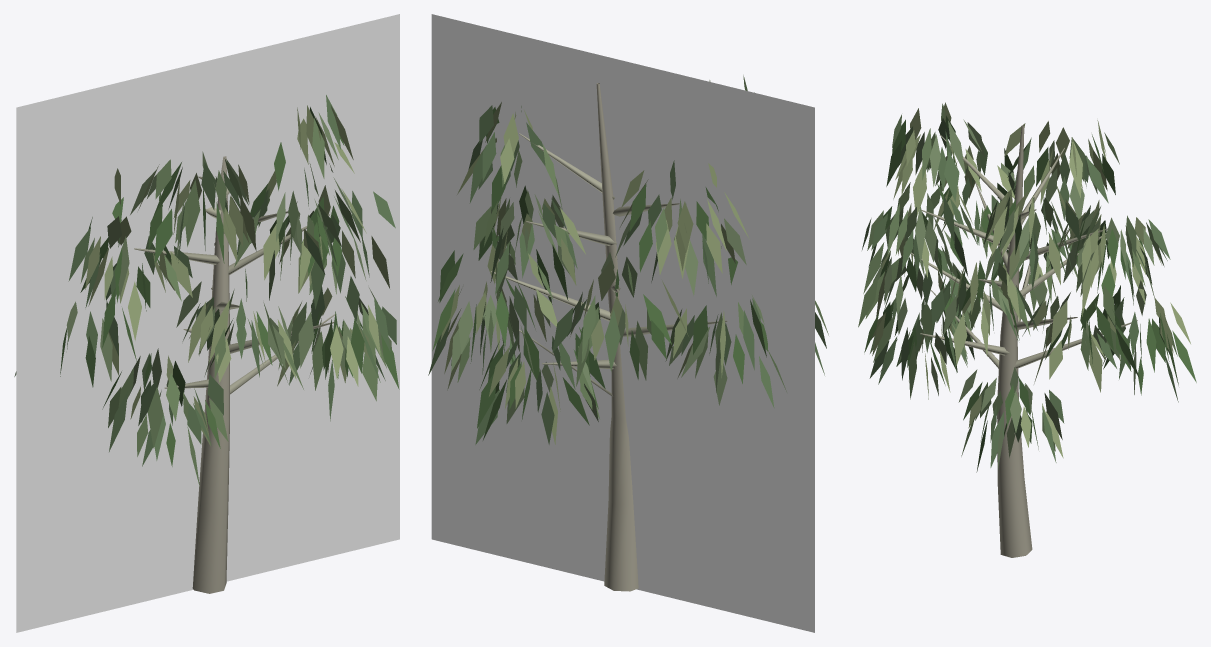
The model's file is eucalyptus.glb.
The picture shows the model from 3 angles, left to right: view 1: azimuth 30°, elevation 25°; view 2: azimuth 150°, elevation 25°; view 3: azimuth 270°, elevation 25°; orthographic projection. The views are drawn at different scales.
Visible parts, largest first — view 1: veg_eucalyptus_billboard, veg_eucalyptus_lod0; view 2: veg_eucalyptus_billboard, veg_eucalyptus_lod0; view 3: veg_eucalyptus_lod0.
Boxes of the visible parts, left/top/right/bottom form: veg_eucalyptus_billboard: left=16, top=14, right=399, bottom=632; veg_eucalyptus_lod0: left=14, top=95, right=399, bottom=593; veg_eucalyptus_billboard: left=431, top=14, right=814, bottom=632; veg_eucalyptus_lod0: left=428, top=75, right=828, bottom=591; veg_eucalyptus_lod0: left=858, top=102, right=1196, bottom=557.
Size of what is drawn, in the model's own units: 6.03 by 7.89 by 5.31.
